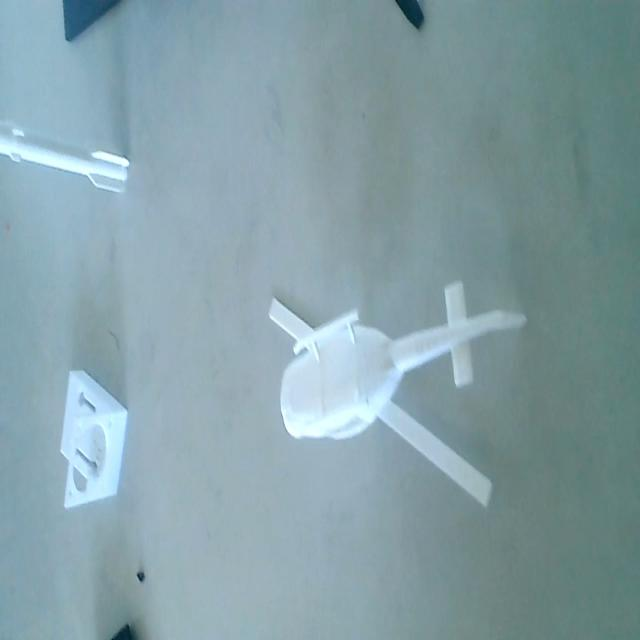Helicopter: (262, 279, 533, 510)
Rocket: (0, 115, 137, 204)
